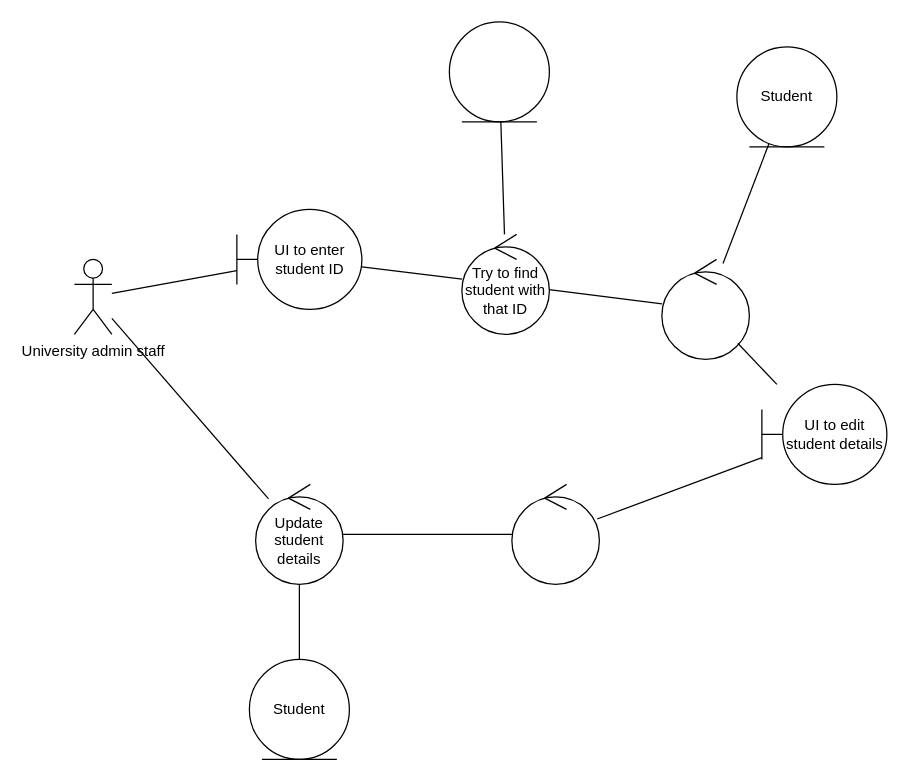
This 909x781 diagram has some shape labels left out. The centre of each missing label's shape, as x and y in pixels:
"Retrieve details of found student" goes at point (705, 308).
"University" goes at point (498, 71).
"Validate details" goes at point (555, 533).
